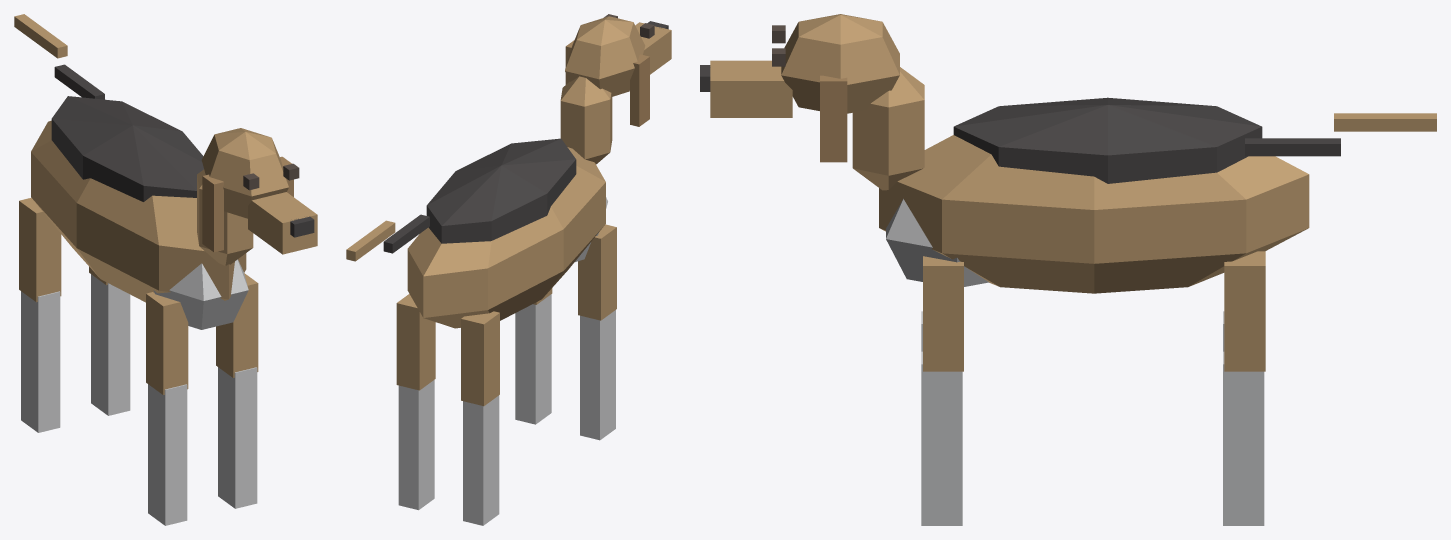
The model's file is ajokoira.glb.
The picture shows the model from 3 angles, left to right: view 1: azimuth 30°, elevation 25°; view 2: azimuth 150°, elevation 25°; view 3: azimuth 270°, elevation 25°; orthographic projection. The views are drawn at different scales.
Parts seen in each view (by area): view 1: ajokoira; view 2: ajokoira; view 3: ajokoira.
Boxes of the visible parts, bbox=[...] form: ajokoira: bbox=[14, 14, 317, 525]; ajokoira: bbox=[346, 14, 671, 525]; ajokoira: bbox=[700, 14, 1436, 525].
Bounding box in the file's own units: 0.2473 × 0.78 × 1.07.
